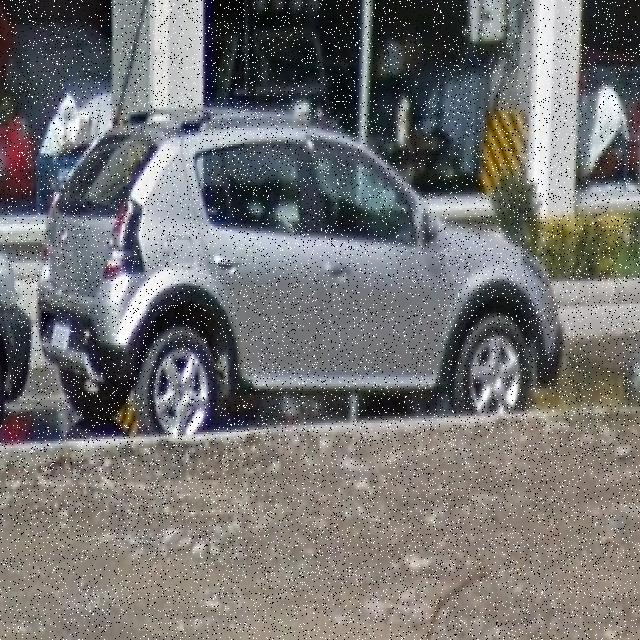cars: (41, 114, 578, 430)
